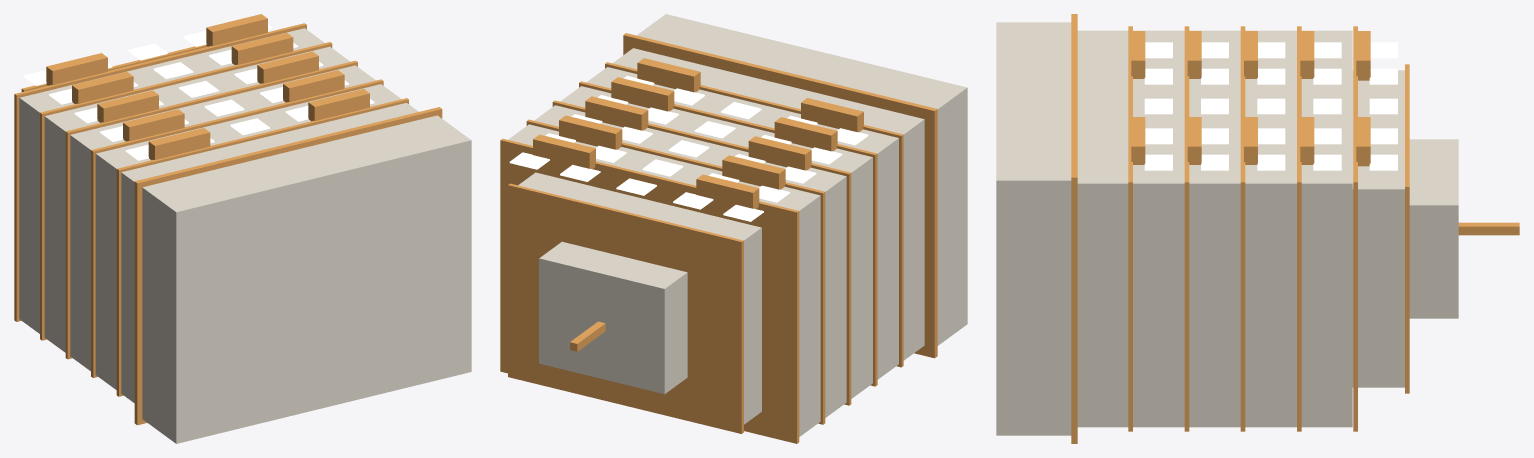
The model's file is marine_drive_art_deco.glb.
3 views of the same model, side by side, from view 1: azimuth 30°, elevation 25°; view 2: azimuth 150°, elevation 25°; view 3: azimuth 270°, elevation 25° (orthographic). The views are drawn at different scales.
Visible parts, largest first — view 1: Mumbai_ArtDeco_Building; view 2: Mumbai_ArtDeco_Building; view 3: Mumbai_ArtDeco_Building.
Part boxes in pixels (x1=…): Mumbai_ArtDeco_Building: x1=14, y1=14, x2=471, y2=443; Mumbai_ArtDeco_Building: x1=500, y1=14, x2=967, y2=443; Mumbai_ArtDeco_Building: x1=996, y1=14, x2=1519, y2=443.
Bounding box in the file's own units: 24.8 × 19.3 × 33.5.
